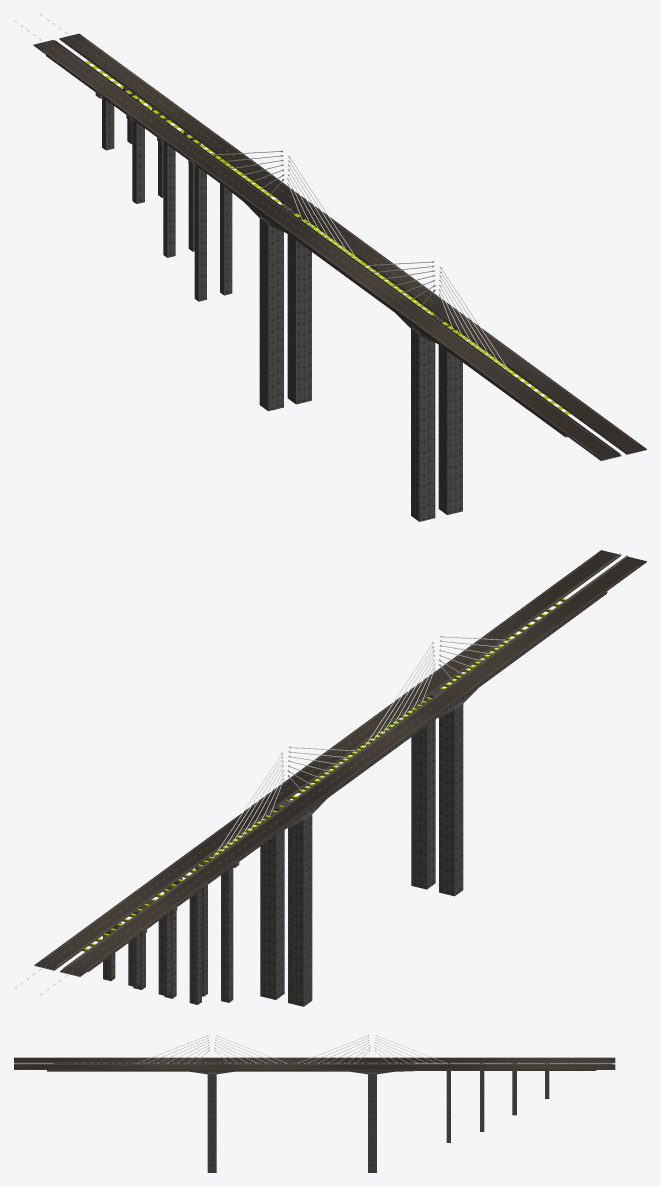
3 renders of one model, top to bottom at view 1: azimuth 30°, elevation 25°; view 2: azimuth 150°, elevation 25°; view 3: azimuth 270°, elevation 25°, orthographic. The views are drawn at different scales.
Visible parts, largest first — view 1: B1; view 2: B1; view 3: B1.
Boxes of the visible parts, x1,y1,x2,y2 form: B1: [14, 14, 646, 521]; B1: [14, 550, 646, 1006]; B1: [14, 1035, 615, 1172].
Bounding box in the file's own units: 36.27 × 188 × 816.
